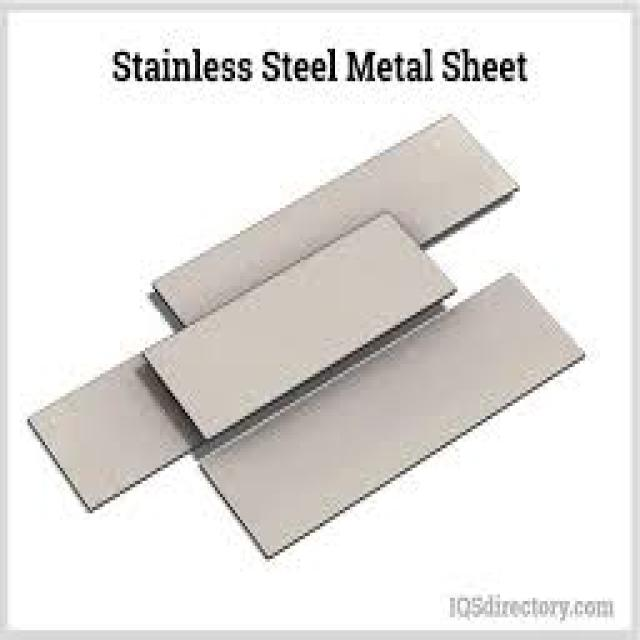Dry: (198, 273, 588, 565), (145, 214, 458, 442)
